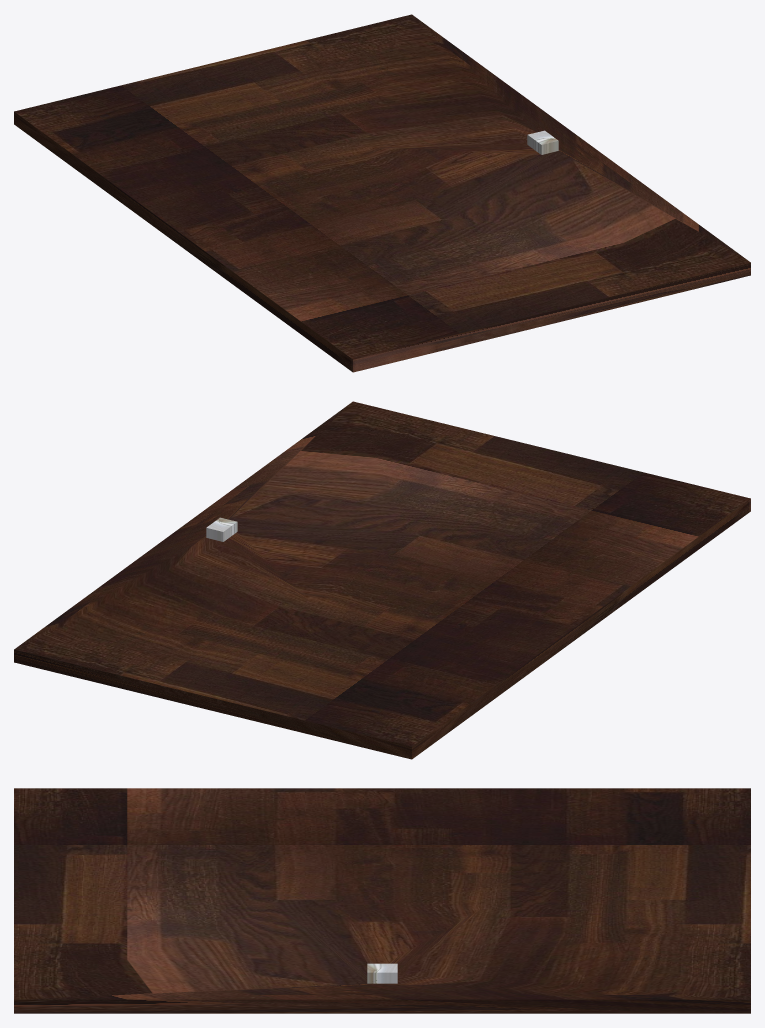
The model's file is Puerta.fbx.
3 renders of one model, top to bottom at view 1: azimuth 30°, elevation 25°; view 2: azimuth 150°, elevation 25°; view 3: azimuth 270°, elevation 25°, orthographic. The views are drawn at different scales.
Parts seen in each view (by area): view 1: Cube.009; view 2: Cube.009; view 3: Cube.009.
Part boxes in pixels (x1,y1,x2,y2): Cube.009: [14, 14, 750, 372]; Cube.009: [14, 401, 750, 759]; Cube.009: [14, 788, 750, 1013].
Bounding box in the file's own units: 6.64 × 0.3662 × 9.79.
2 materials, 2 textured.
